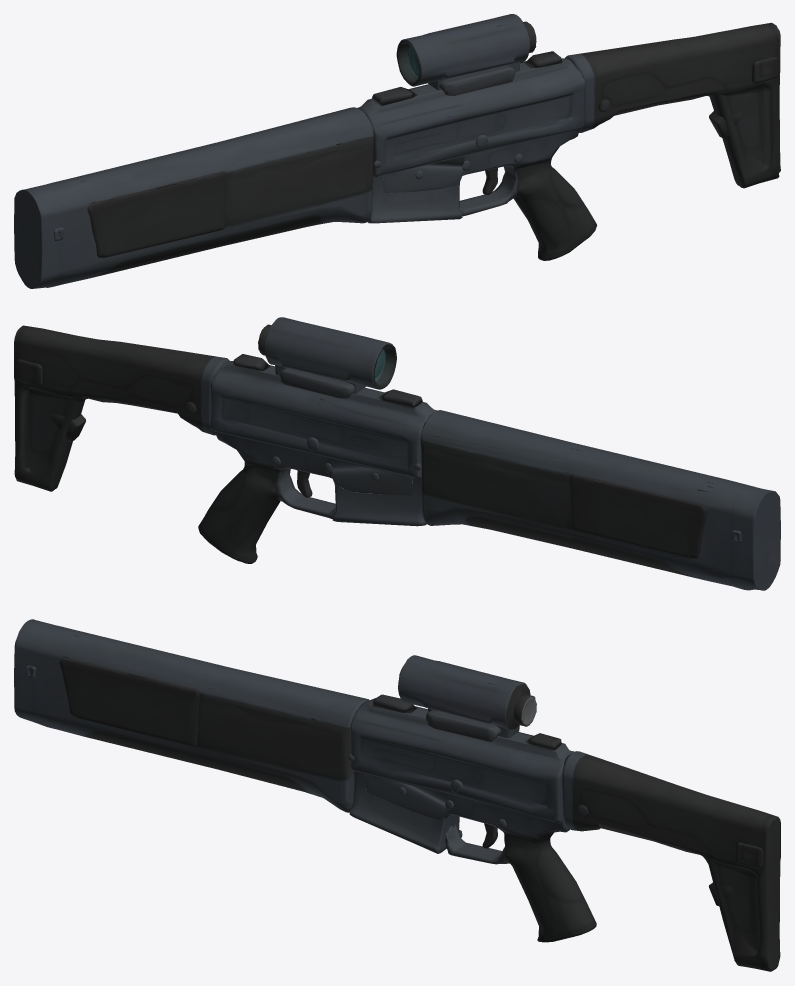
The model's file is marksman.glb.
3 renders of one model, top to bottom at view 1: azimuth 30°, elevation 25°; view 2: azimuth 150°, elevation 25°; view 3: azimuth 330°, elevation 25°, orthographic.
Visible parts, largest first — view 1: geometry_0; view 2: geometry_0; view 3: geometry_0.
Boxes of the visible parts, bbox=[...] form: geometry_0: bbox=[14, 14, 780, 288]; geometry_0: bbox=[14, 317, 780, 590]; geometry_0: bbox=[14, 619, 780, 971].
Bounding box in the file's own units: 1 × 0.3206 × 0.0701.
1 material, 1 textured.
